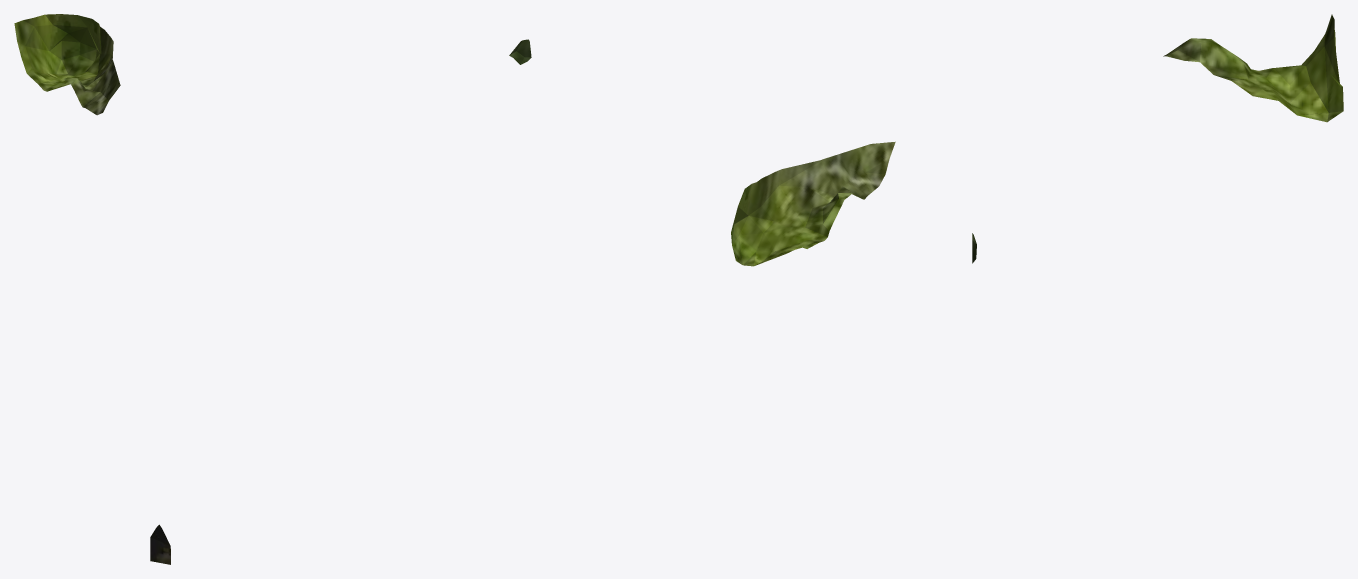
3 views of the same model, side by side, from view 1: azimuth 30°, elevation 25°; view 2: azimuth 150°, elevation 25°; view 3: azimuth 270°, elevation 25° (orthographic). The views are drawn at different scales.
Bounding box in the file's own units: 2.62 × 2.95 × 1.83.
Materials: 1 (1 with a texture image).
